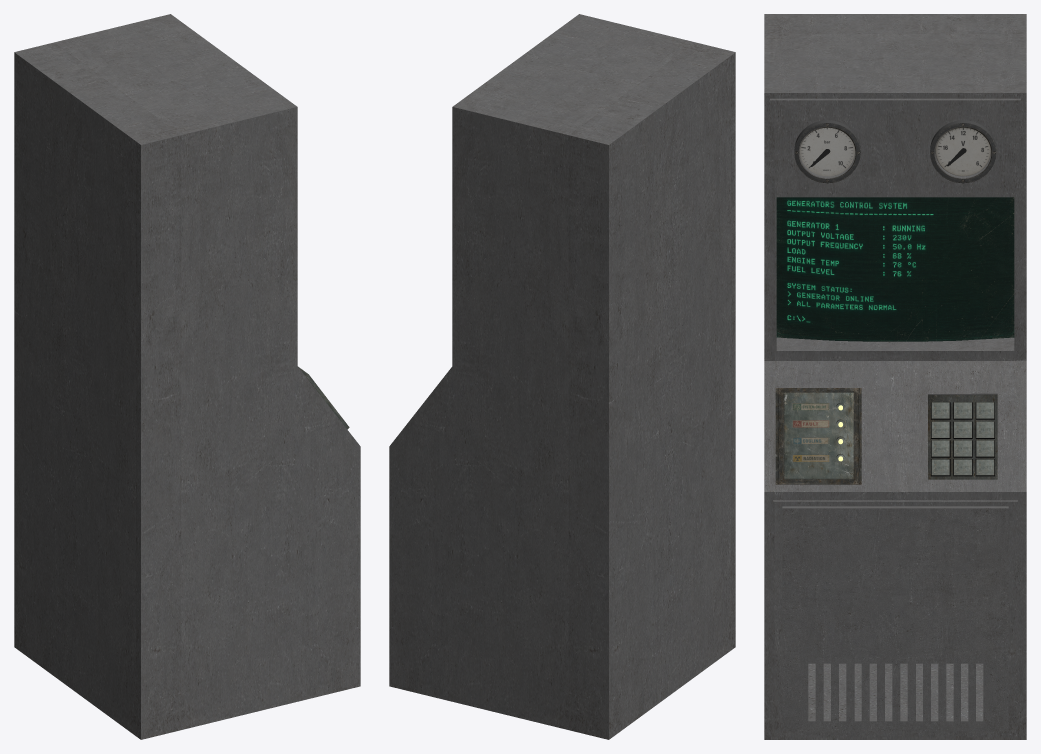
File: wall_computer.glb
3 renders of one model, left to right at view 1: azimuth 30°, elevation 25°; view 2: azimuth 150°, elevation 25°; view 3: azimuth 270°, elevation 25°, orthographic. The views are drawn at different scales.
Visible parts, largest first — view 1: Base; view 2: Base; view 3: Base, VentCap, Cover, Manometr.001, Vmeter, Frame.
Part boxes in pixels (box(x1,y1,x2,y2)): Base: box(14, 14, 360, 739); Base: box(389, 14, 735, 739); Base: box(764, 14, 1026, 739); VentCap: box(782, 506, 1008, 731); Cover: box(784, 392, 853, 479); Manometr.001: box(794, 120, 860, 183); Vmeter: box(930, 120, 996, 183); Frame: box(775, 388, 861, 484).
Bounding box in the file's own units: 0.7984 × 2 × 0.773.
13 materials, 9 textured.
